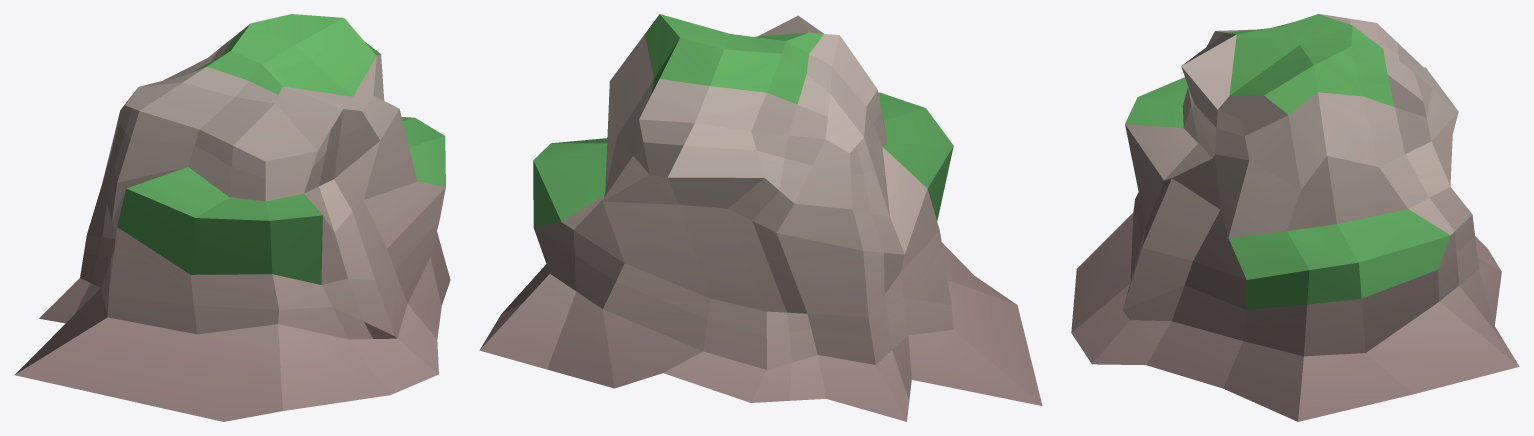
Rendered from Mountain.fbx.
3 renders of one model, left to right at view 1: azimuth 30°, elevation 25°; view 2: azimuth 150°, elevation 25°; view 3: azimuth 270°, elevation 25°, orthographic. The views are drawn at different scales.
Parts seen in each view (by area): view 1: Mountain; view 2: Mountain; view 3: Mountain.
Boxes of the visible parts, <box> form: Mountain: <box>14,14,450,421</box>; Mountain: <box>479,14,1042,421</box>; Mountain: <box>1071,14,1519,421</box>.
Bounding box in the file's own units: 954 × 589 × 787.
